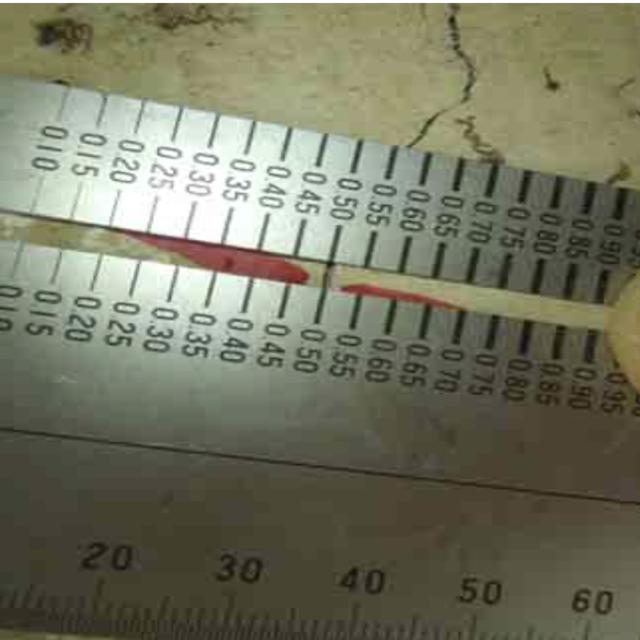crack: (397, 11, 493, 156)
